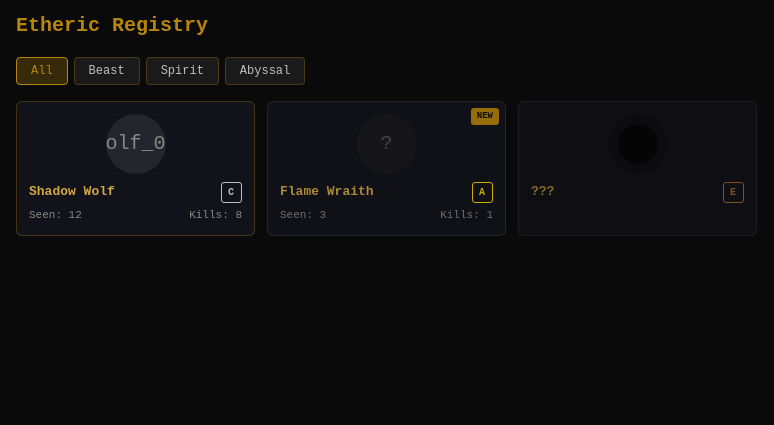
EthericRegistry › expands entity detail on card click
Click the text "Shadow Wolf" at (72, 192), box [29, 182, 115, 202]
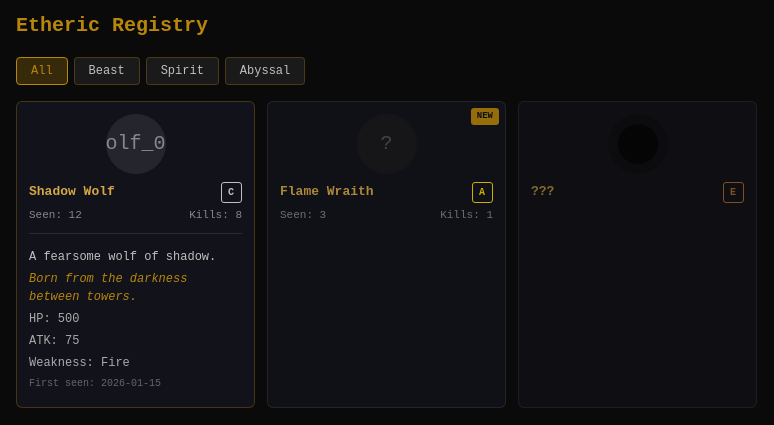
Now the text "A fearsome wolf of shadow." is shown, box [29, 248, 242, 266]
Now the text "Born from the darkness between towers." is shown, box [29, 272, 187, 304]
Now the text "HP: 500" is shown, box [29, 312, 79, 326]
